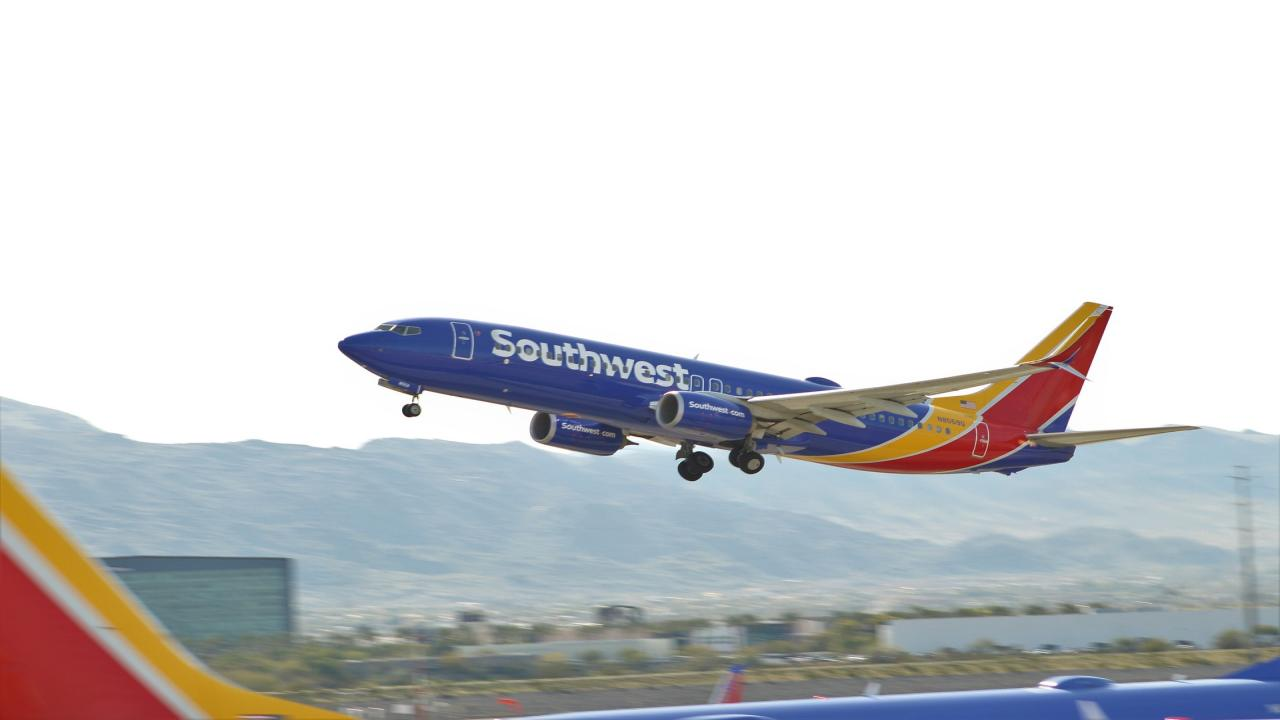Airplane: (318, 279, 1211, 507)
